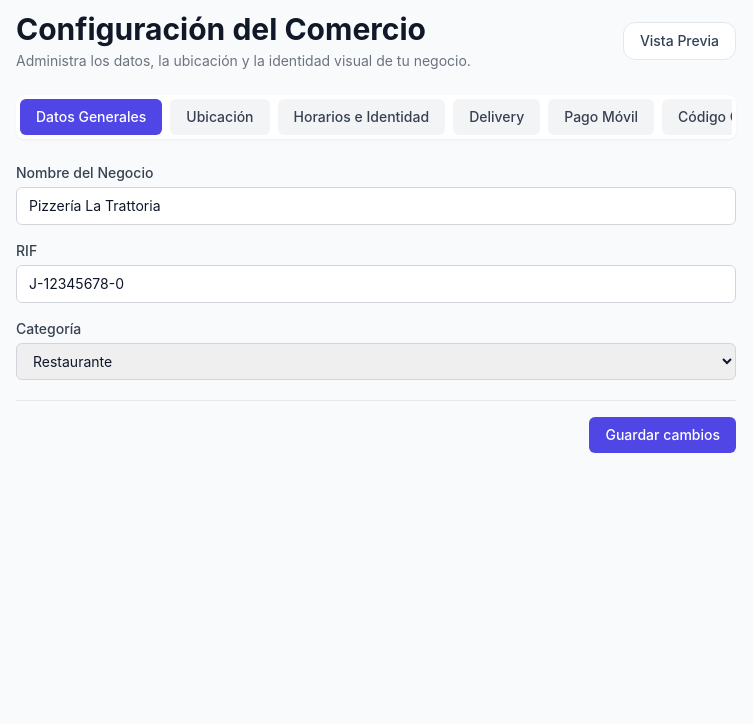
it: MerchantSettingsPage › cambia de tab al hacer clic
The image size is (753, 724).
Expected: the text "Nombre del Negocio" is shown, [16, 164, 153, 181]
Click the button "Ubicación" at (220, 117), box [170, 99, 270, 135]
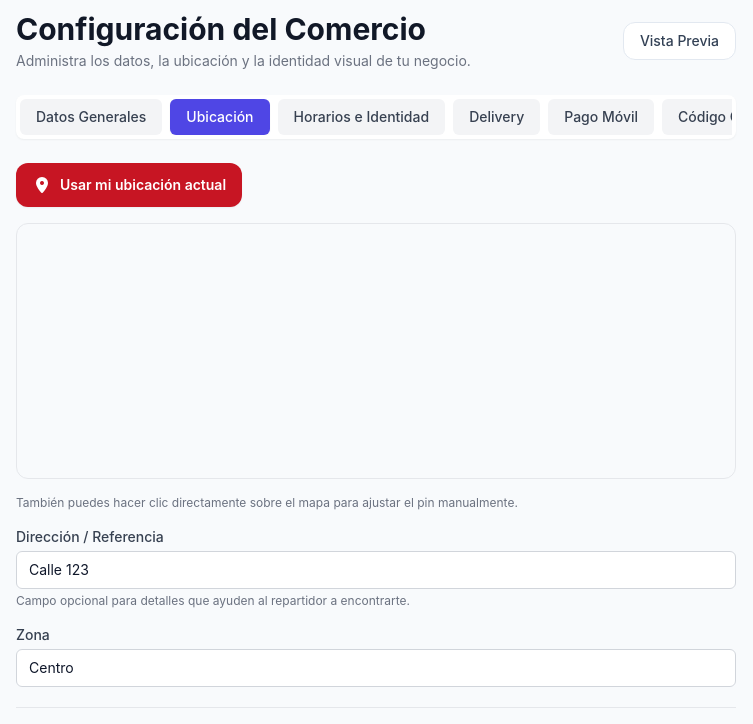
Expected: the text "Dirección / Referencia" is shown, [16, 528, 164, 545]
Expected: the text "Nombre del Negocio" is gone
Click the button "Horarios e Identidad" at (361, 117), box [278, 99, 445, 135]
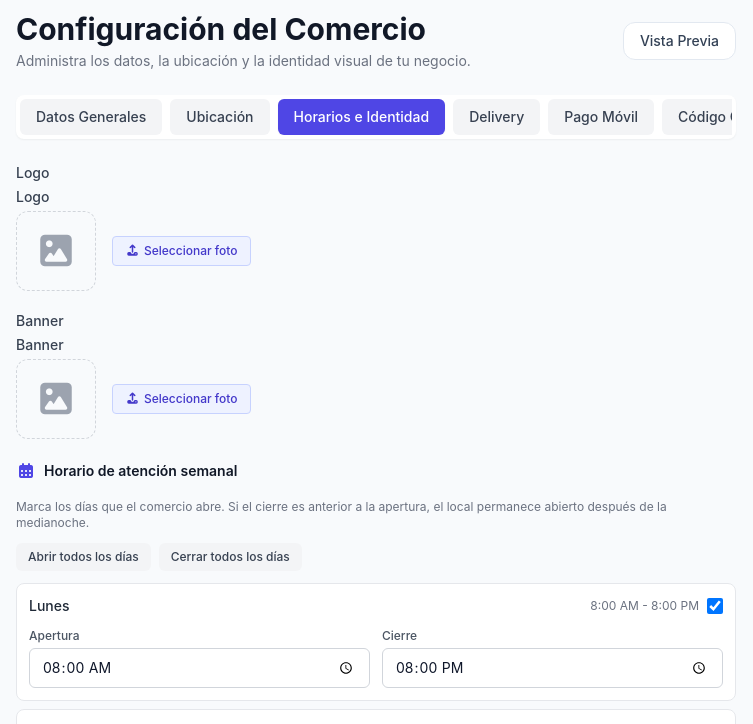
Expected: the text "Logo" is shown, [16, 164, 50, 181]
Expected: the text "Banner" is shown, [16, 312, 64, 329]
Expected: the file field named "Seleccionar foto de logo" is shown, [16, 188, 50, 205]
